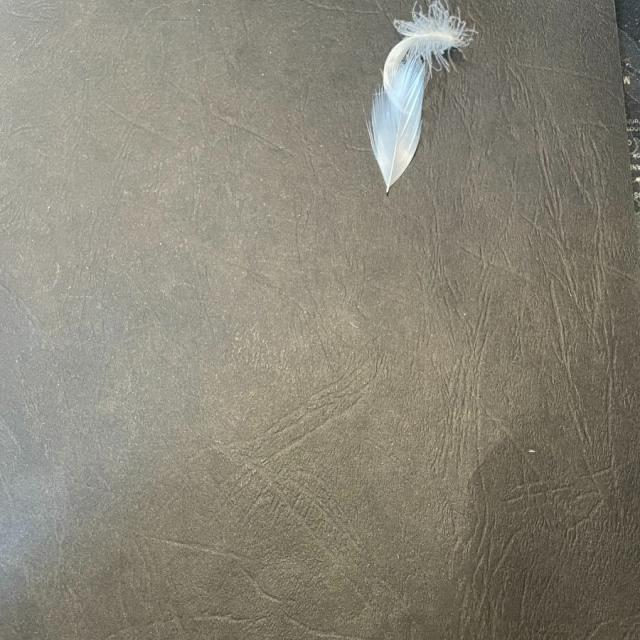feather: (364, 54, 431, 198), (387, 0, 477, 64)
